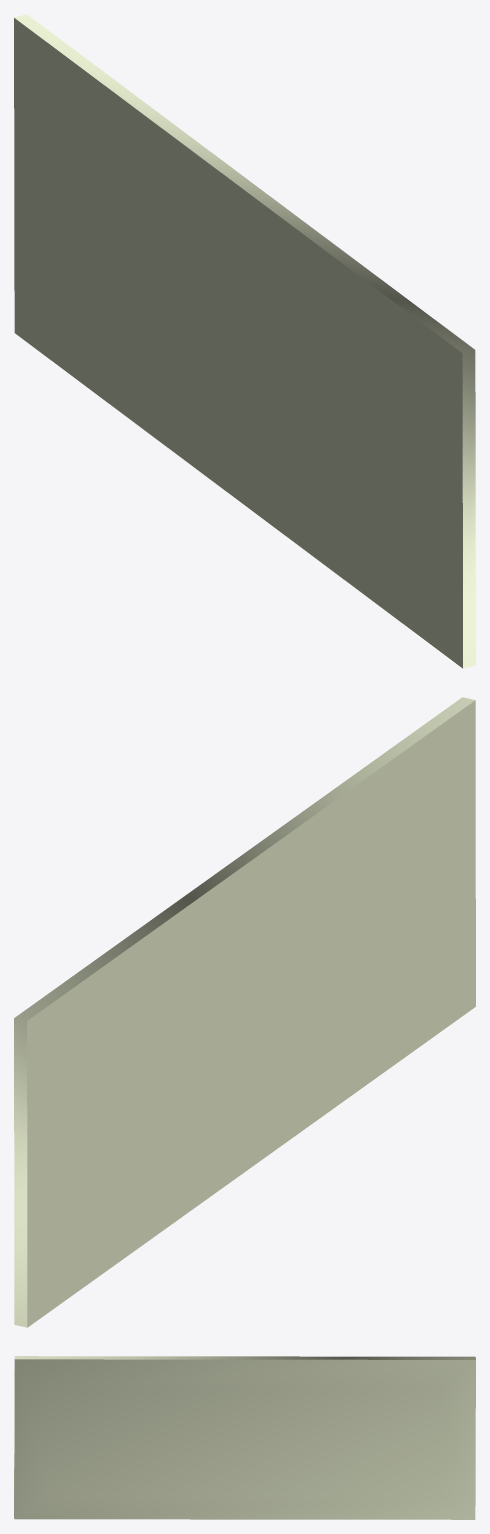
The model's file is hotl_TV_panel.FBX.
3 views of the same model, one above another, from view 1: azimuth 30°, elevation 25°; view 2: azimuth 150°, elevation 25°; view 3: azimuth 270°, elevation 25° (orthographic). The views are drawn at different scales.
Visible parts, largest first — view 1: TV__panel; view 2: TV__panel; view 3: TV__panel.
Boxes of the visible parts, bbox=[...] form: TV__panel: bbox=[14, 14, 475, 668]; TV__panel: bbox=[14, 697, 475, 1327]; TV__panel: bbox=[14, 1356, 475, 1519].
Bounding box in the file's own units: 0.121 × 1.13 × 2.95.
